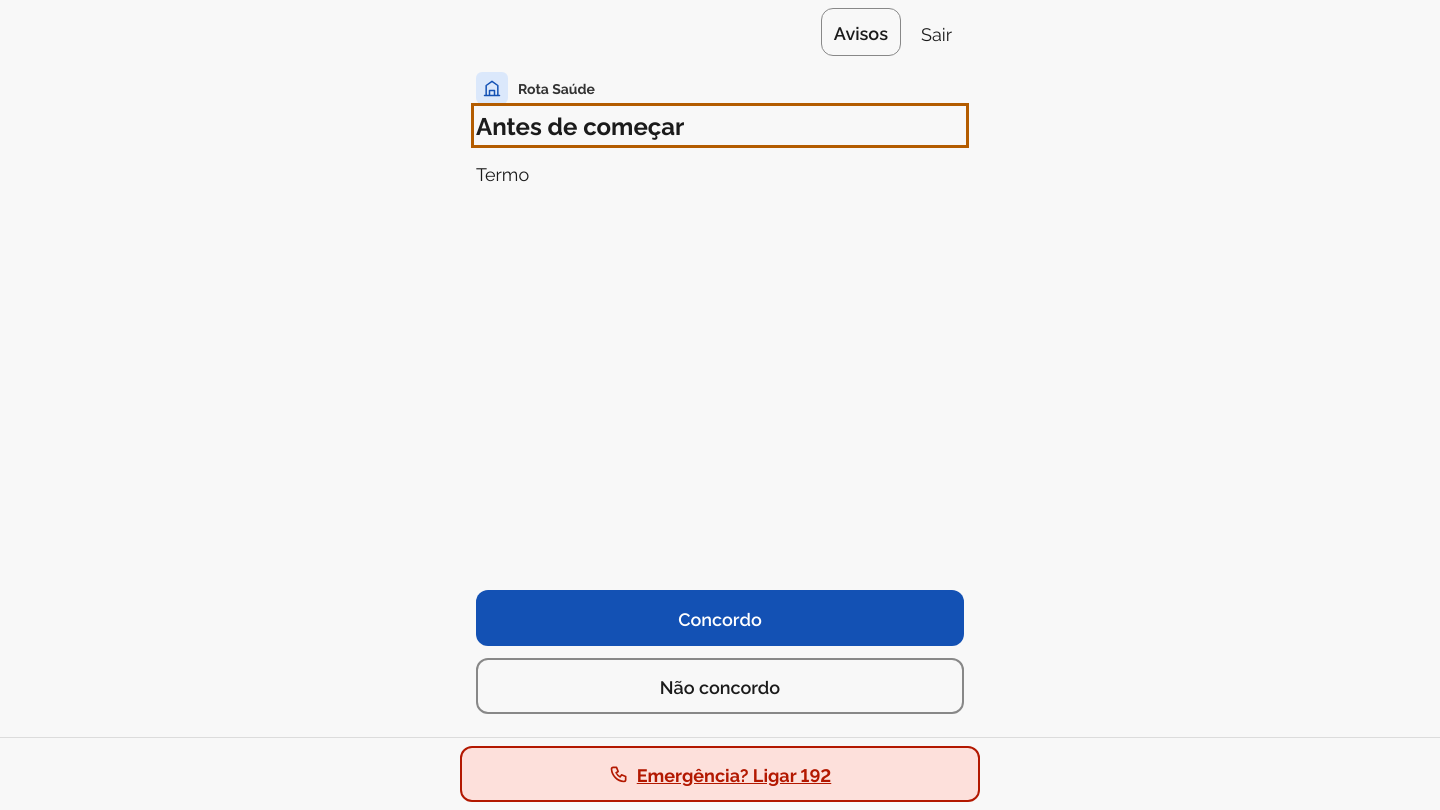
Test: Flow — Minhas vacinas (módulo 29) › com vaccination: Minhas triagens → Minhas vacinas → Voltar
Click the button "Concordo" at {"x": 720, "y": 618}, box [476,590,964,646]
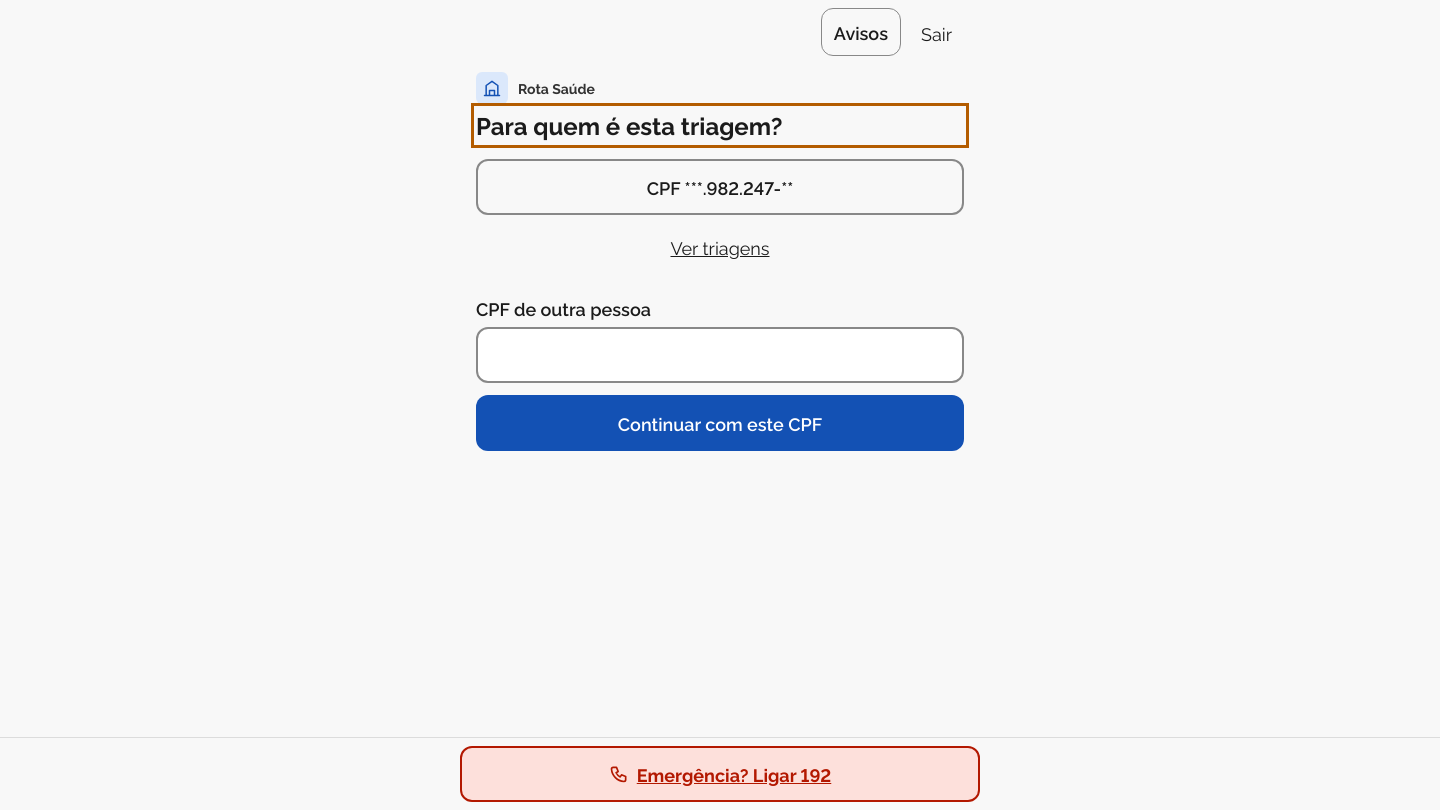
Click the button with aria-label "Ver triagens de ***.982.247-**" at {"x": 720, "y": 247}, box [476,223,964,271]
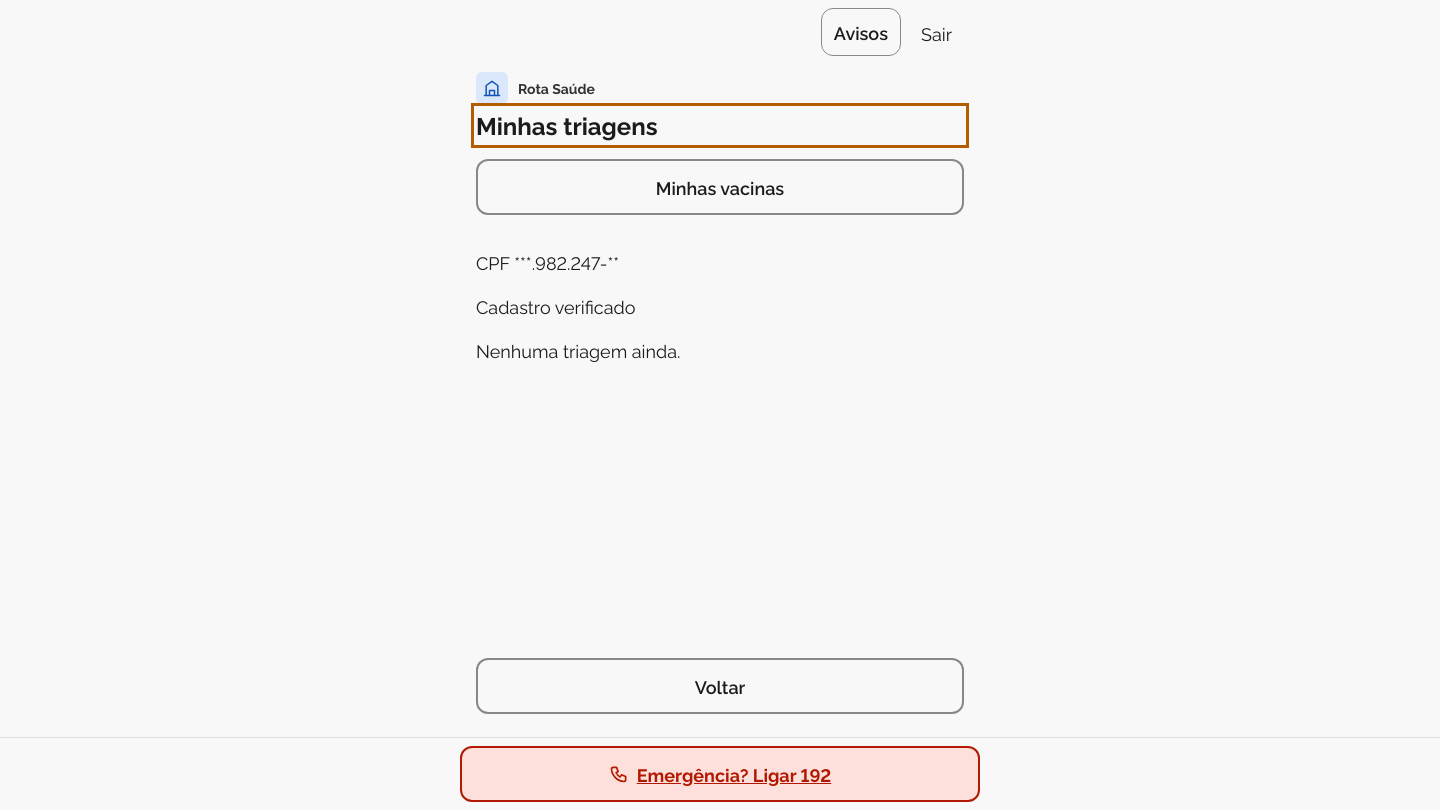
Click the button "Minhas vacinas" at {"x": 720, "y": 187}, box [476,159,964,215]
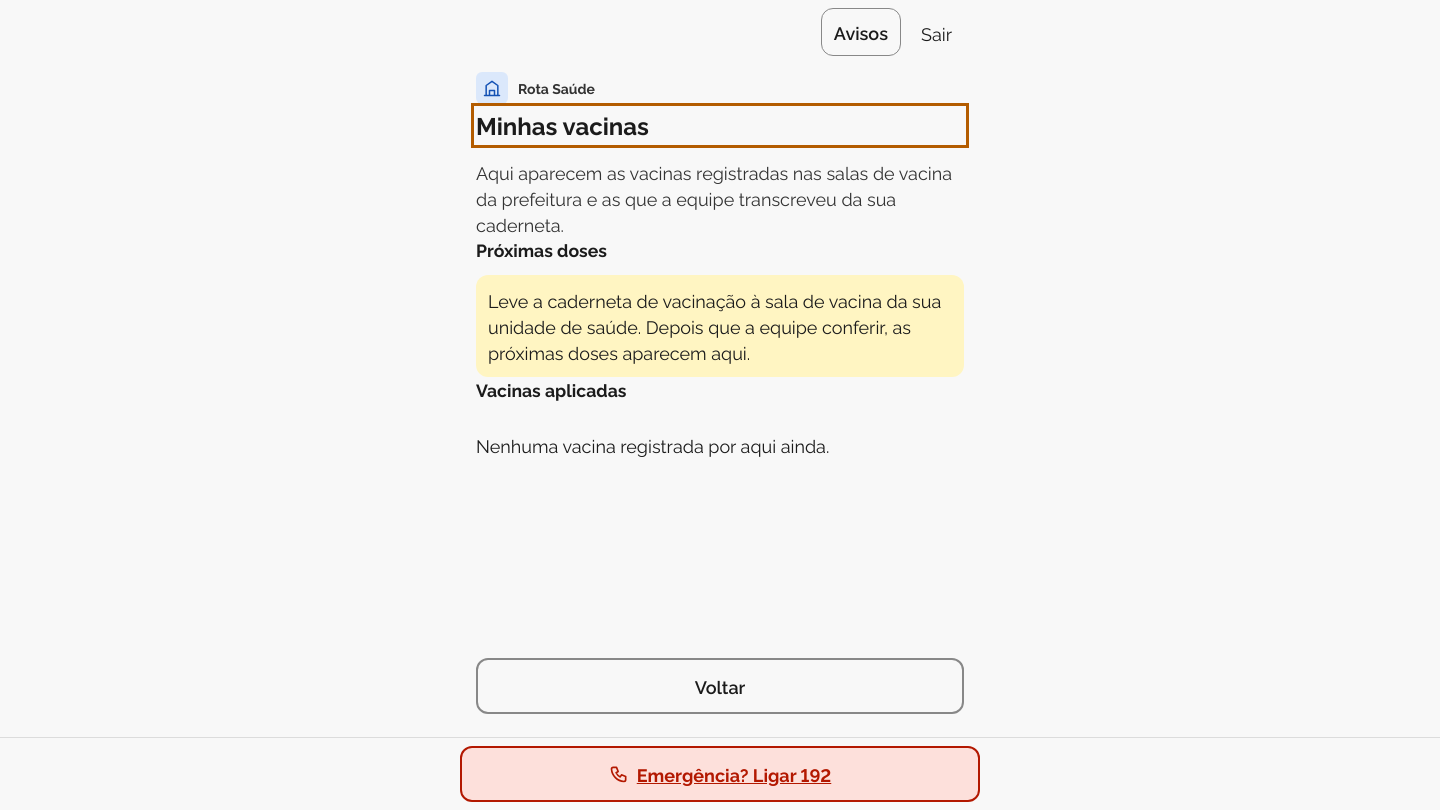
Expected: the heading "Minhas vacinas" is shown, [476,108,649,141]
Expected: the text named "caderneta não conferida" is shown, [476,275,964,377]
Click the button "Voltar" at {"x": 720, "y": 686}, box [476,658,964,714]
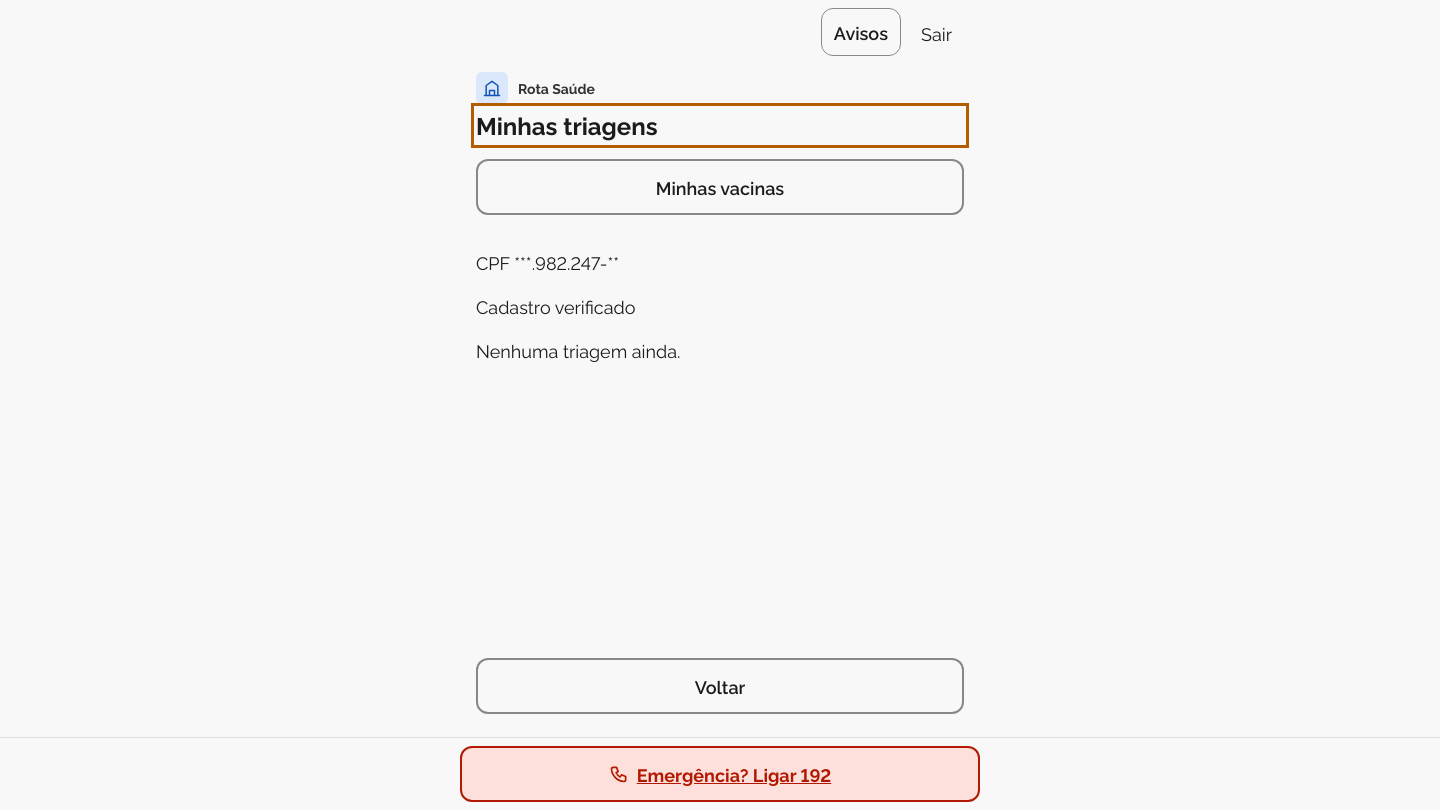
Expected: the heading "Minhas triagens" is shown, [476,108,658,141]
